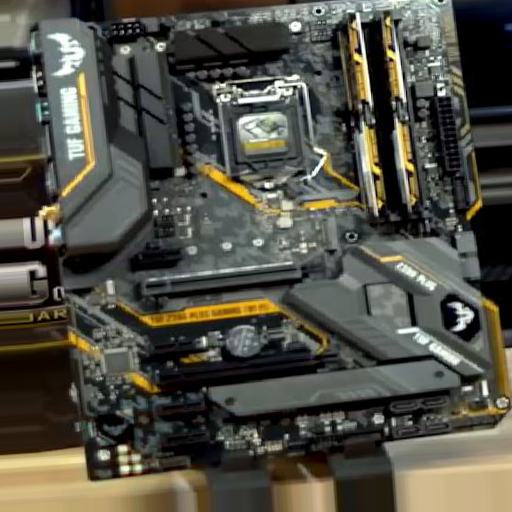CPU: (215, 77, 307, 191)
GPU: (158, 345, 344, 390), (139, 260, 330, 298)
MOTHERBOARD: (74, 1, 505, 476)
RAM: (337, 13, 430, 225)
SSD: (319, 218, 338, 255)
